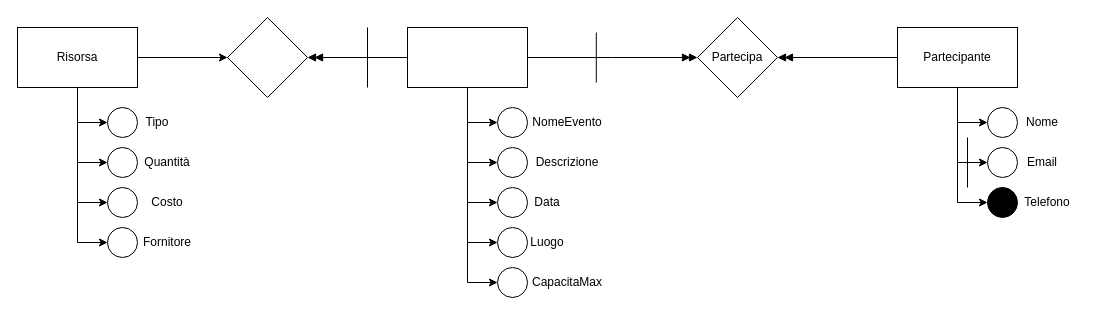
This 1095x315 diagram has some shape labels left out. The shapes that lost their labels are listed below. From the top down, each one's centre as x and y in pixels, then its label:
At point (267, 57): "Utilizza".
At point (467, 57): "Evento".
